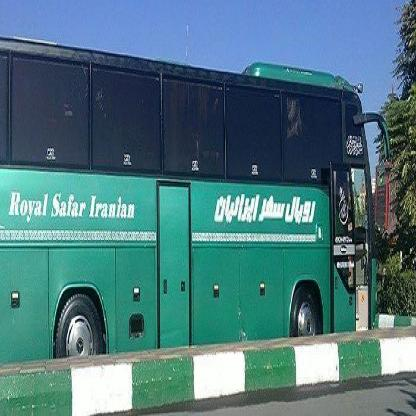Bus: (0, 33, 390, 372)
